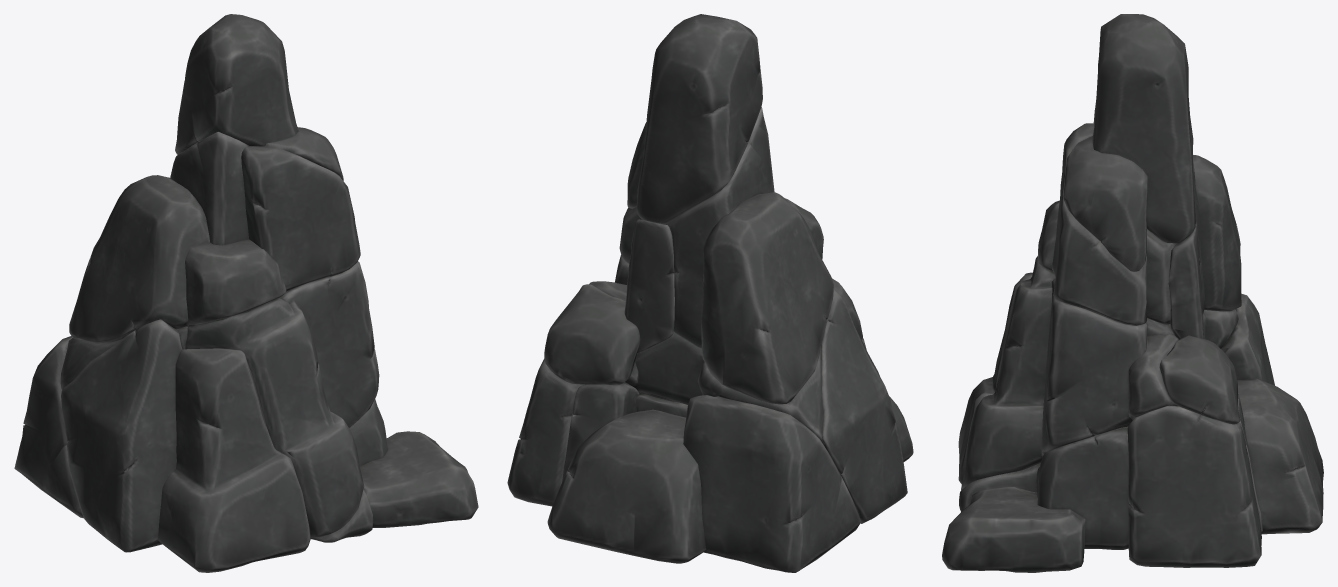
The model's file is rock.fbx.
The picture shows the model from 3 angles, left to right: view 1: azimuth 30°, elevation 25°; view 2: azimuth 150°, elevation 25°; view 3: azimuth 270°, elevation 25°; orthographic projection. The views are drawn at different scales.
Parts seen in each view (by area): view 1: rock; view 2: rock; view 3: rock.
Part boxes in pixels (<box>): rock: <box>14,14,478,572</box>; rock: <box>507,14,913,572</box>; rock: <box>942,14,1323,572</box>.
Bounding box in the file's own units: 2512 × 3611 × 2610.
